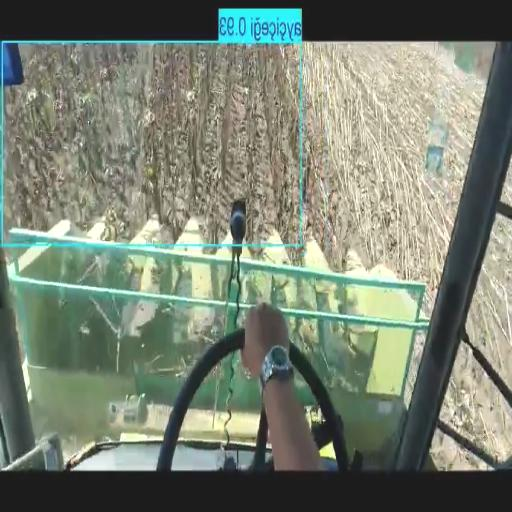ayc: (3, 45, 311, 241)
